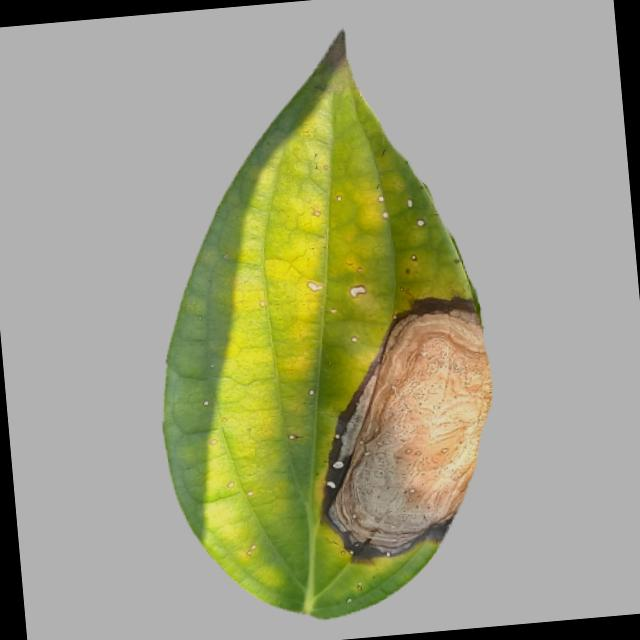leaf-blight: (80, 6, 537, 619)
